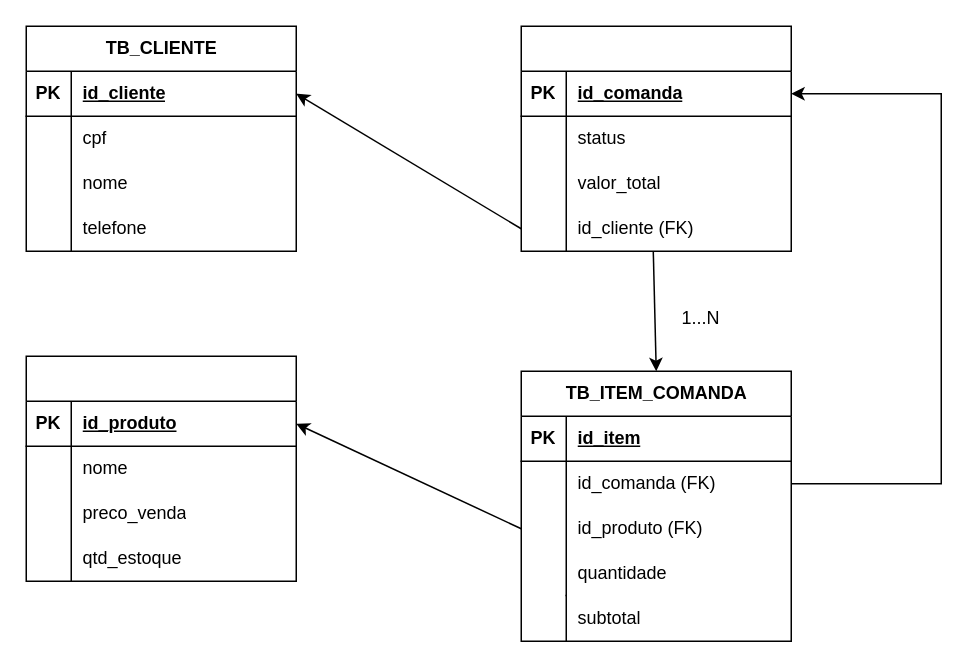
Some shapes in this 980 by 669 pixel diagram are drawn without their labels. Here are the shapes that lost their labels. From the top down, the box of each, then its label:
(520, 25, 791, 251): TB_COMANDA
(25, 355, 296, 581): TB_PRODUTO
